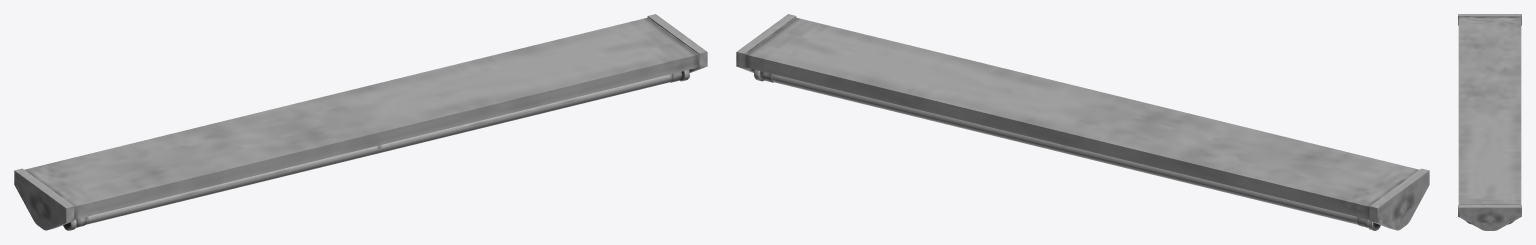
File: ceiling_lamp.glb
3 renders of one model, left to right at view 1: azimuth 30°, elevation 25°; view 2: azimuth 150°, elevation 25°; view 3: azimuth 270°, elevation 25°, orthographic. The views are drawn at different scales.
Visible parts, largest first — view 1: ceiling_lamp; view 2: ceiling_lamp; view 3: ceiling_lamp.
Boxes of the visible parts, x1,y1,x2,y2 form: ceiling_lamp: (14, 14, 707, 230); ceiling_lamp: (736, 14, 1429, 230); ceiling_lamp: (1458, 14, 1521, 230).
Size of the model in its own units: 1.2 by 0.0678 by 0.1677.
1 material, 1 textured.
